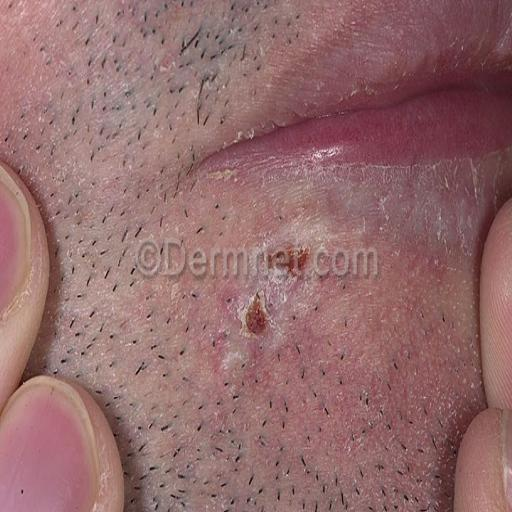Skin_Lesion: (222, 274, 268, 358), (262, 226, 316, 281)
